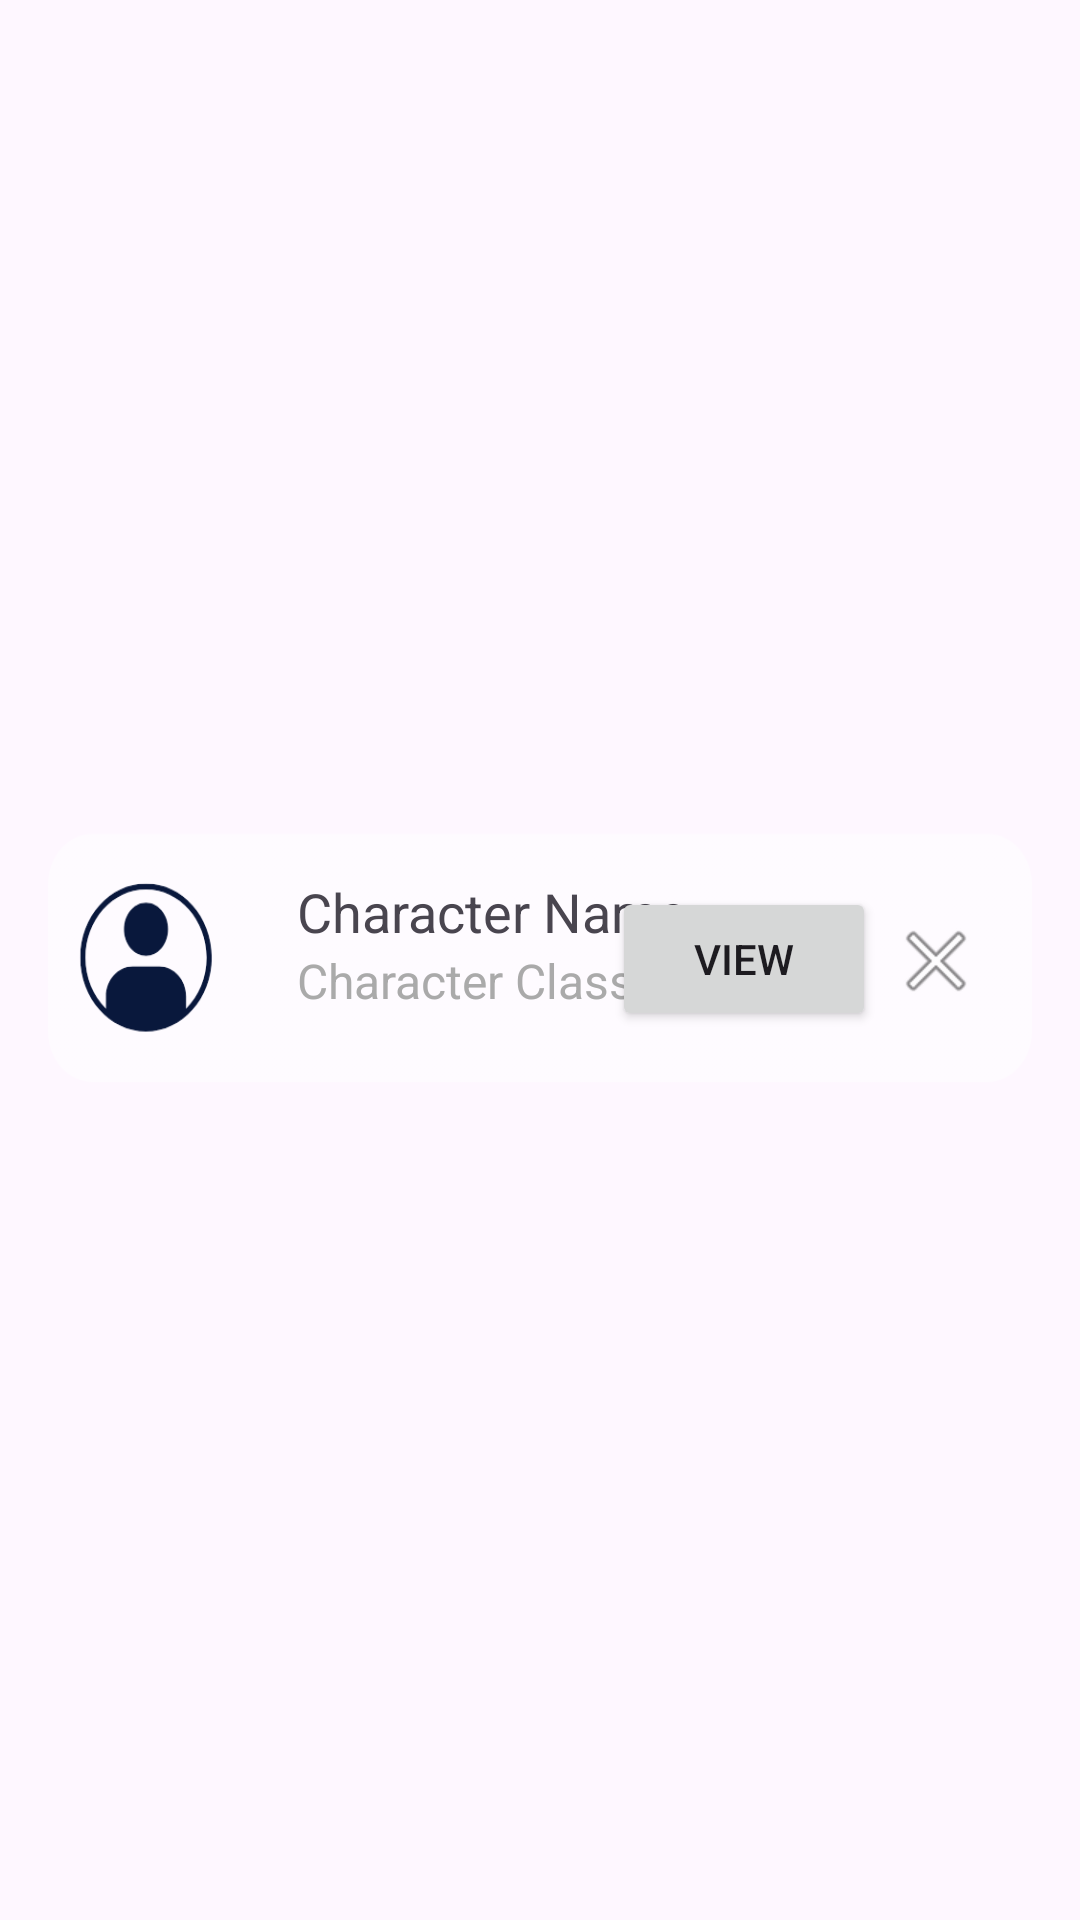

Named icons in this screenshot (1080*1920) and their centers, point (x, y):
Delete character: point (936, 961)
